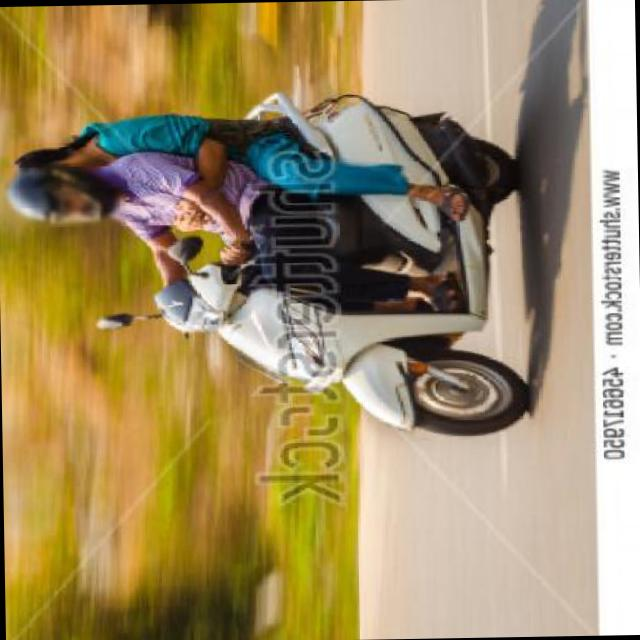With Helmet: (4, 164, 127, 226)
